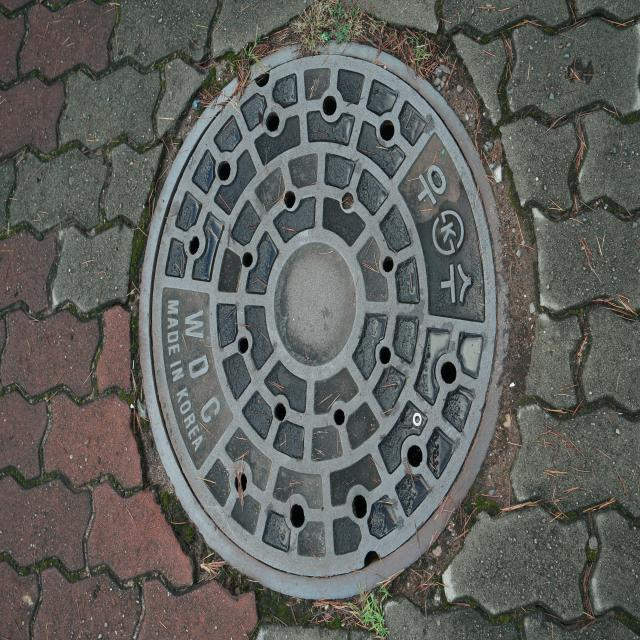manhole: (140, 44, 504, 599)
